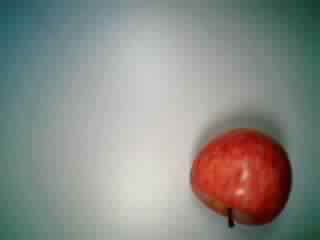apple: (189, 123, 293, 227)
